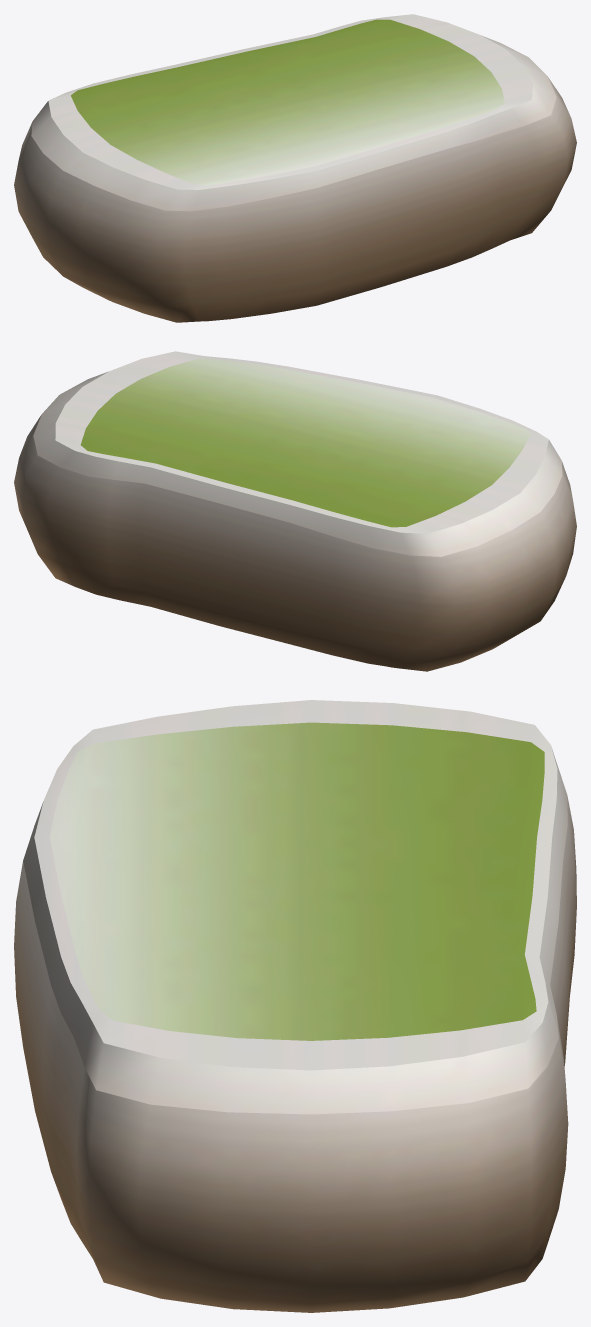
Rendered from M_TerrainBlock_06.fbx.
3 views of the same model, one above another, from view 1: azimuth 30°, elevation 25°; view 2: azimuth 150°, elevation 25°; view 3: azimuth 270°, elevation 25° (orthographic). The views are drawn at different scales.
Visible parts, largest first — view 1: M_TerrainBlock_06; view 2: M_TerrainBlock_06; view 3: M_TerrainBlock_06.
Part boxes in pixels (x1=…): M_TerrainBlock_06: x1=14, y1=14, x2=576, y2=322; M_TerrainBlock_06: x1=14, y1=351, x2=576, y2=671; M_TerrainBlock_06: x1=14, y1=700, x2=576, y2=1312.
Bounding box in the file's own units: 8697 × 2448 × 4729.
Materials: 1 (1 with a texture image).
